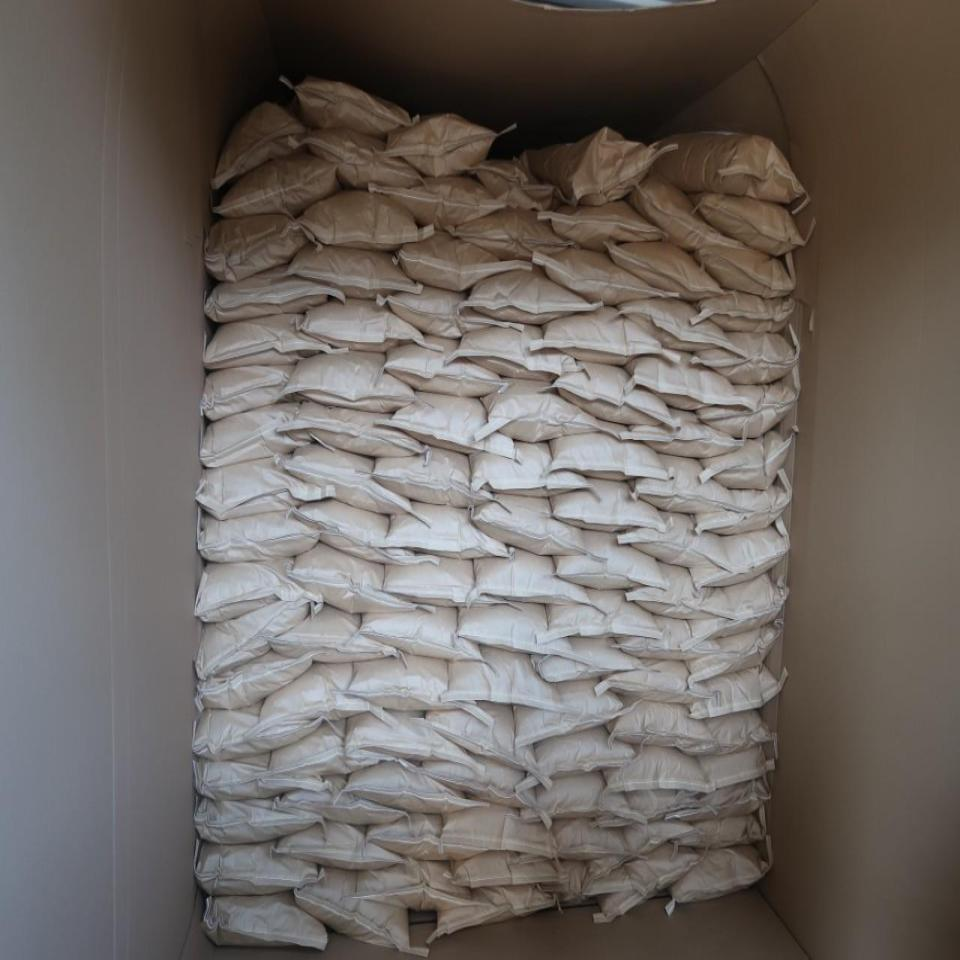bag: (516, 128, 666, 203), (649, 133, 802, 203), (427, 700, 548, 784), (295, 868, 415, 951), (197, 599, 314, 677), (288, 443, 415, 513), (553, 355, 676, 427), (476, 375, 602, 445), (258, 661, 382, 732), (345, 654, 482, 718), (294, 544, 421, 613), (196, 456, 332, 519), (390, 391, 514, 458), (348, 708, 482, 769), (192, 699, 323, 760), (211, 104, 308, 186), (374, 443, 494, 509), (598, 845, 702, 920), (196, 558, 319, 621), (385, 500, 508, 563), (272, 604, 401, 663), (295, 501, 417, 563), (633, 452, 751, 516), (627, 179, 739, 246), (468, 437, 587, 500), (550, 418, 669, 481), (203, 892, 330, 951), (288, 242, 417, 300), (456, 601, 578, 662), (474, 491, 590, 555), (196, 646, 315, 708), (542, 306, 667, 365), (534, 248, 673, 301), (449, 648, 571, 708), (360, 607, 486, 665), (466, 269, 601, 323), (290, 402, 422, 457), (294, 191, 417, 250), (291, 353, 416, 411), (387, 333, 502, 396), (442, 205, 569, 262), (215, 156, 335, 216), (513, 677, 622, 743), (380, 172, 506, 229), (395, 232, 525, 287), (456, 325, 586, 380), (205, 312, 337, 366), (437, 884, 564, 940), (306, 293, 424, 353), (423, 750, 541, 810), (626, 353, 750, 410), (620, 298, 743, 355), (276, 818, 405, 872), (581, 821, 693, 883), (209, 265, 330, 322), (555, 528, 668, 589), (206, 215, 310, 281), (381, 114, 499, 172), (198, 840, 320, 896), (201, 404, 309, 467), (615, 512, 730, 571), (609, 241, 725, 299), (281, 773, 405, 827), (305, 133, 421, 190), (473, 548, 591, 604), (346, 763, 478, 813), (268, 719, 375, 780), (291, 79, 409, 134), (607, 700, 717, 758), (199, 509, 321, 561), (443, 804, 558, 859), (629, 558, 731, 620), (693, 575, 791, 639), (696, 194, 804, 252), (551, 477, 667, 531), (384, 554, 502, 607), (195, 797, 322, 845), (690, 526, 785, 590), (544, 586, 663, 637), (356, 859, 477, 909), (542, 200, 662, 250), (629, 406, 744, 458), (196, 755, 328, 800), (603, 742, 713, 796), (520, 770, 638, 820), (689, 244, 793, 300), (205, 358, 299, 419), (386, 287, 507, 334), (464, 157, 570, 210), (691, 330, 794, 384), (367, 812, 486, 858), (613, 614, 729, 661), (699, 383, 796, 439), (701, 433, 796, 489), (672, 845, 765, 902), (532, 638, 652, 682), (598, 659, 716, 703), (686, 626, 776, 682), (534, 725, 634, 775), (449, 847, 568, 888), (693, 486, 788, 537), (671, 779, 766, 828), (692, 664, 777, 717), (542, 861, 645, 904), (545, 820, 645, 859), (698, 290, 792, 331), (600, 792, 708, 826), (701, 709, 775, 757), (675, 813, 762, 848), (703, 746, 770, 788)
